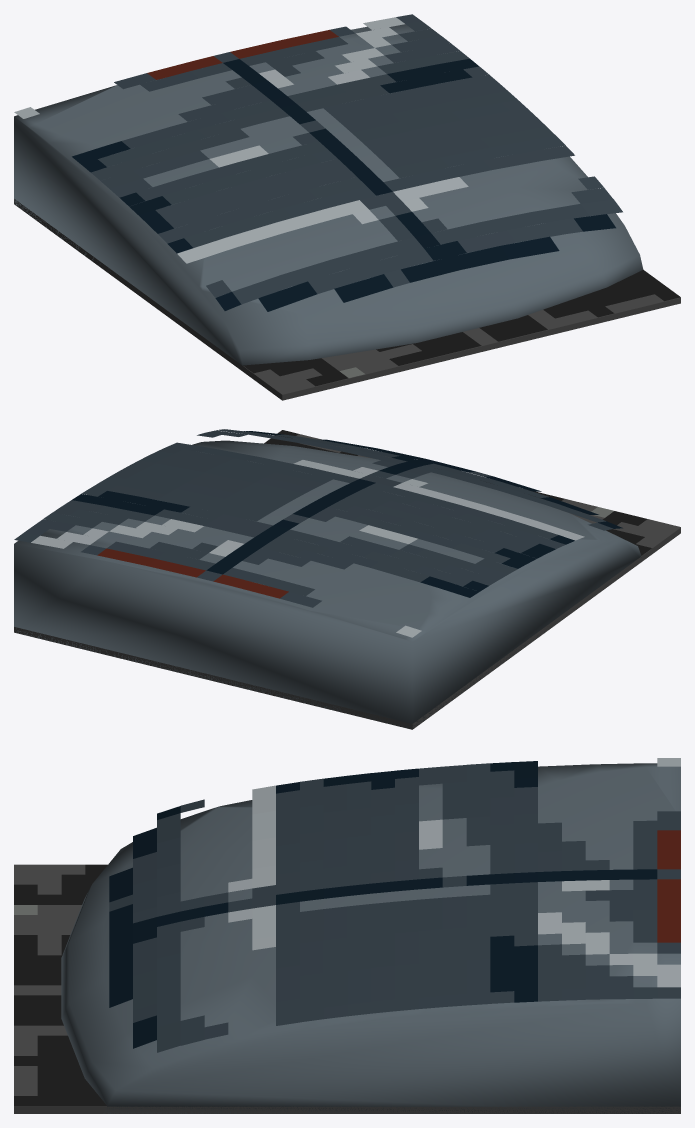
Rendered from newshm-7-f2.glb.
3 renders of one model, top to bottom at view 1: azimuth 30°, elevation 25°; view 2: azimuth 150°, elevation 25°; view 3: azimuth 270°, elevation 25°, orthographic. The views are drawn at different scales.
Visible parts, largest first — view 1: newshm-7-f2; view 2: newshm-7-f2; view 3: newshm-7-f2.
Boxes of the visible parts, x1,y1,x2,y2 form: newshm-7-f2: [14, 14, 680, 400]; newshm-7-f2: [14, 429, 680, 729]; newshm-7-f2: [14, 758, 680, 1113].
Size of the model in its own units: 2 by 0.4779 by 2.33.
